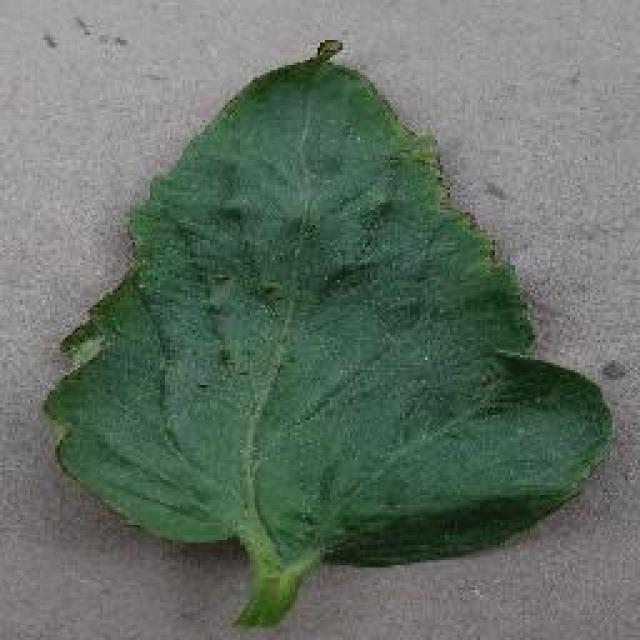Tomato___Bacterial_spot: (33, 42, 612, 628)
